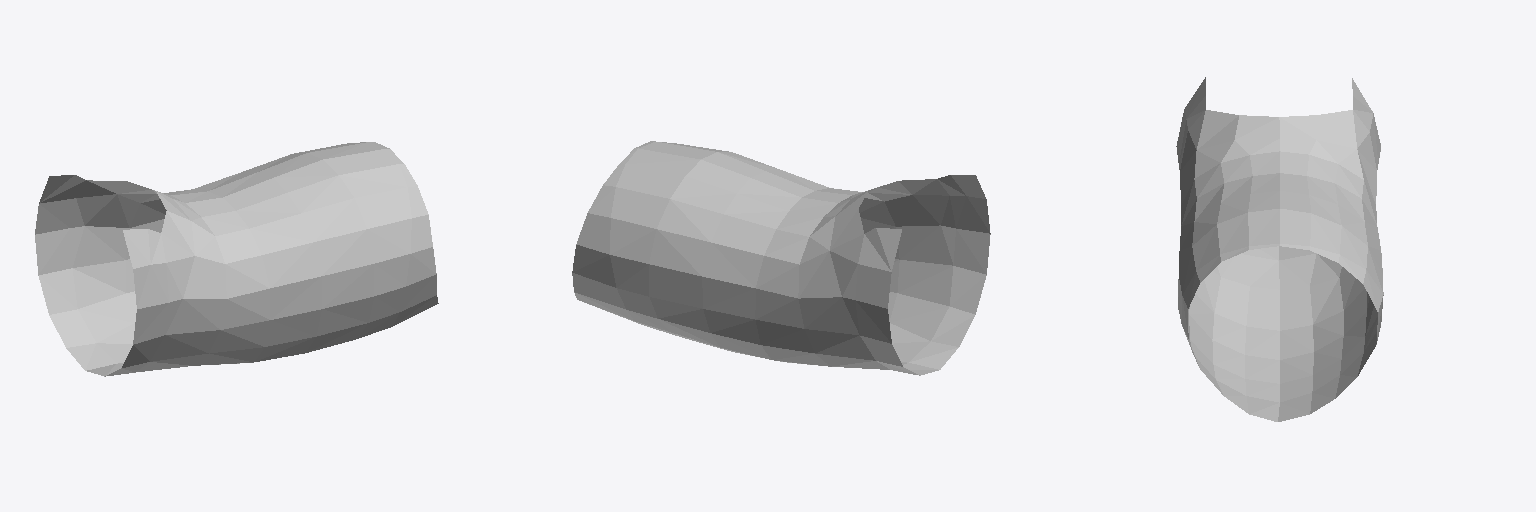
Rendered from RShoulderRoll_1.obj.
3 renders of one model, left to right at view 1: azimuth 30°, elevation 25°; view 2: azimuth 150°, elevation 25°; view 3: azimuth 270°, elevation 25°, orthographic.
Size of the model in its own units: 0.1686 by 0.0895 by 0.0882.